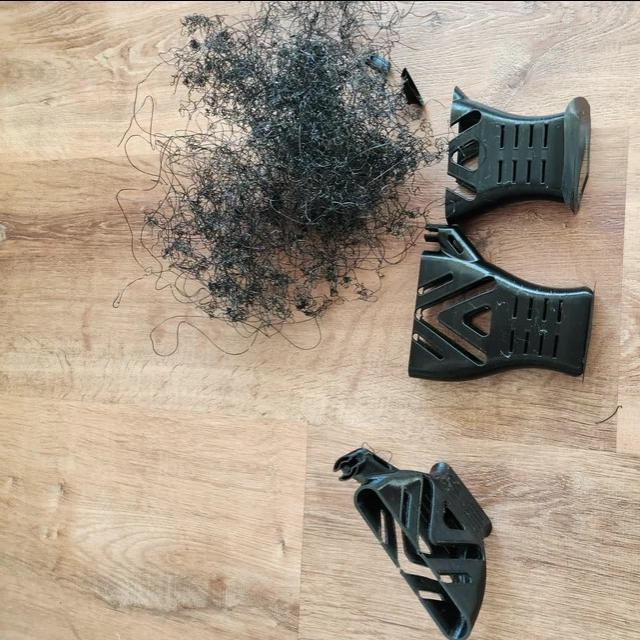Spaghetti: (226, 29, 399, 247), (150, 149, 232, 283), (213, 245, 337, 333), (176, 18, 228, 102)
